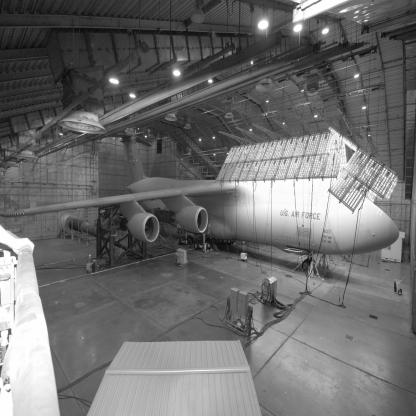C5: (2, 134, 401, 273)
